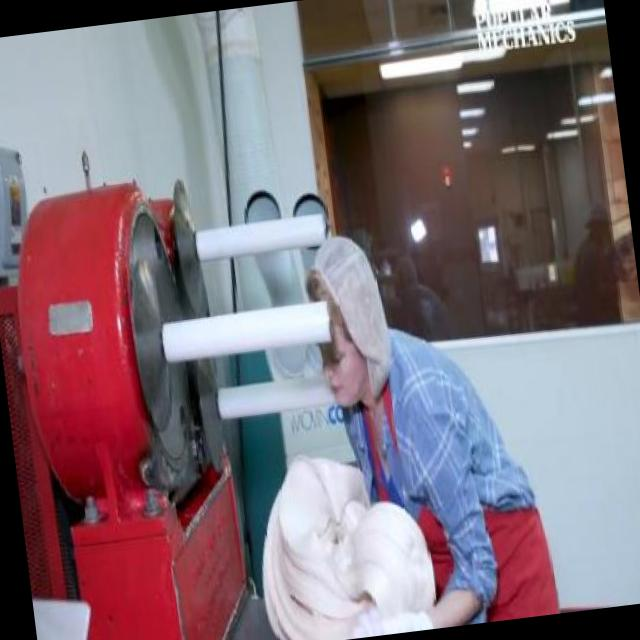hairnet: (304, 232, 386, 350)
